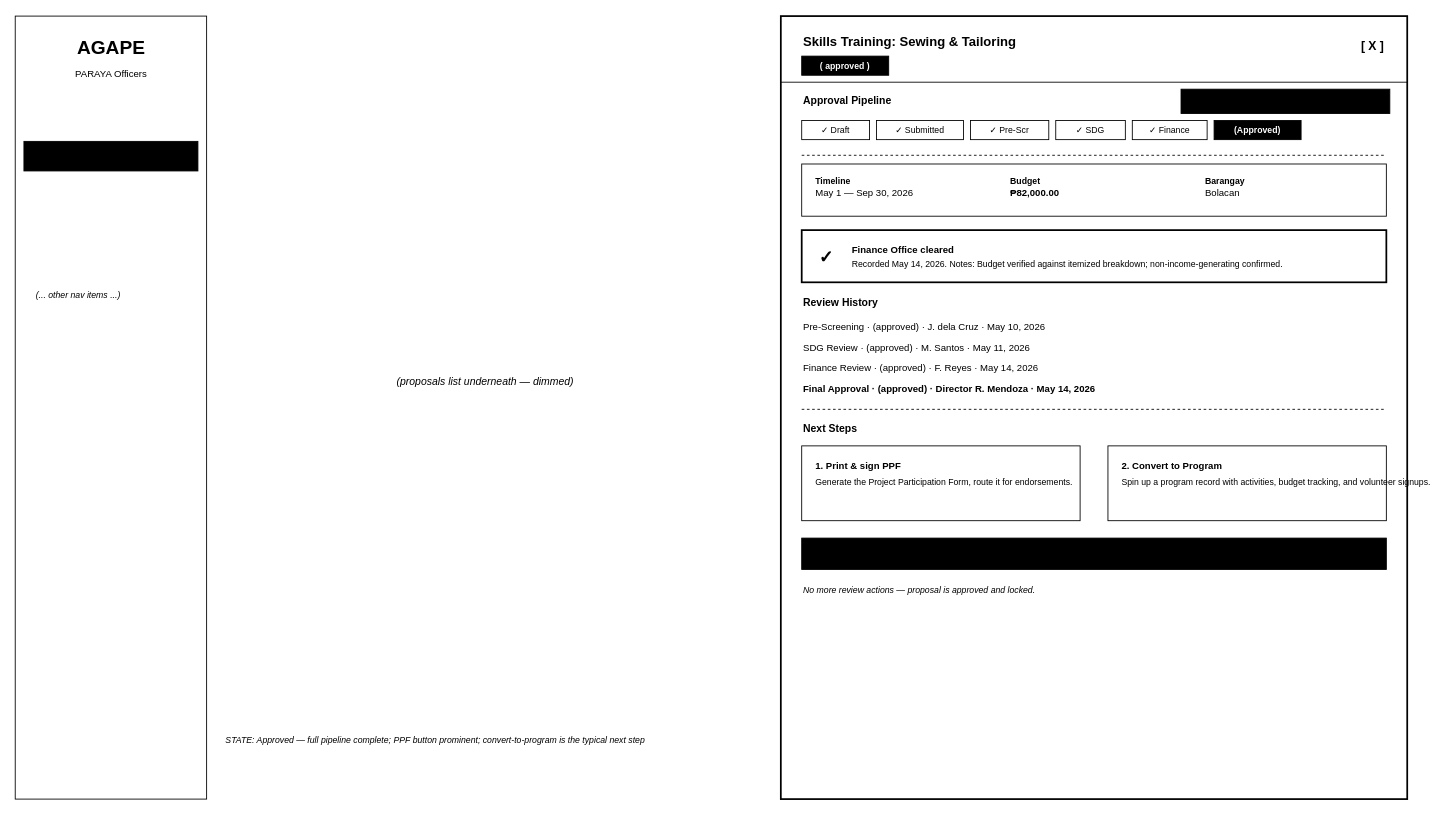
Some shapes in this 1446 by 814 pixel diagram are drawn without their labels. The box of each missing label's shape, as (x1, y1, x2, y2) in pixels:
[ ➤ CONVERT TO PROGRAM ]: (801, 537, 1386, 569)
[ 🖨 Project Participation Form ]: (1180, 88, 1390, 114)
[x] Proposals: (23, 141, 198, 171)
